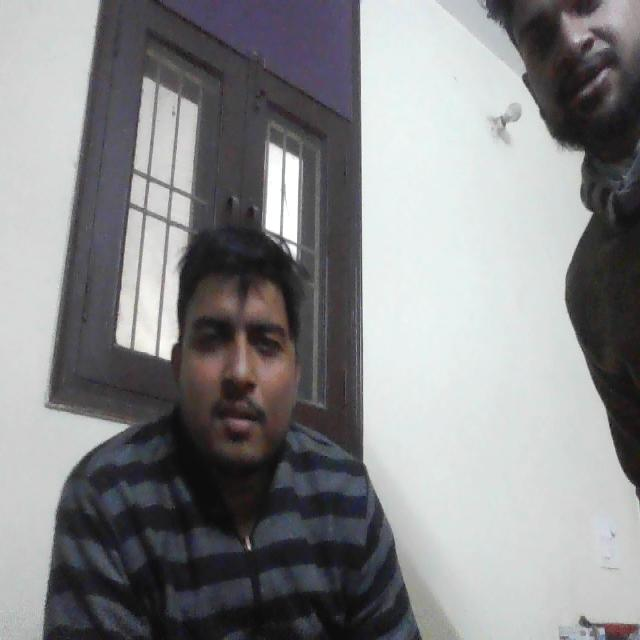real: (168, 202, 316, 482)
